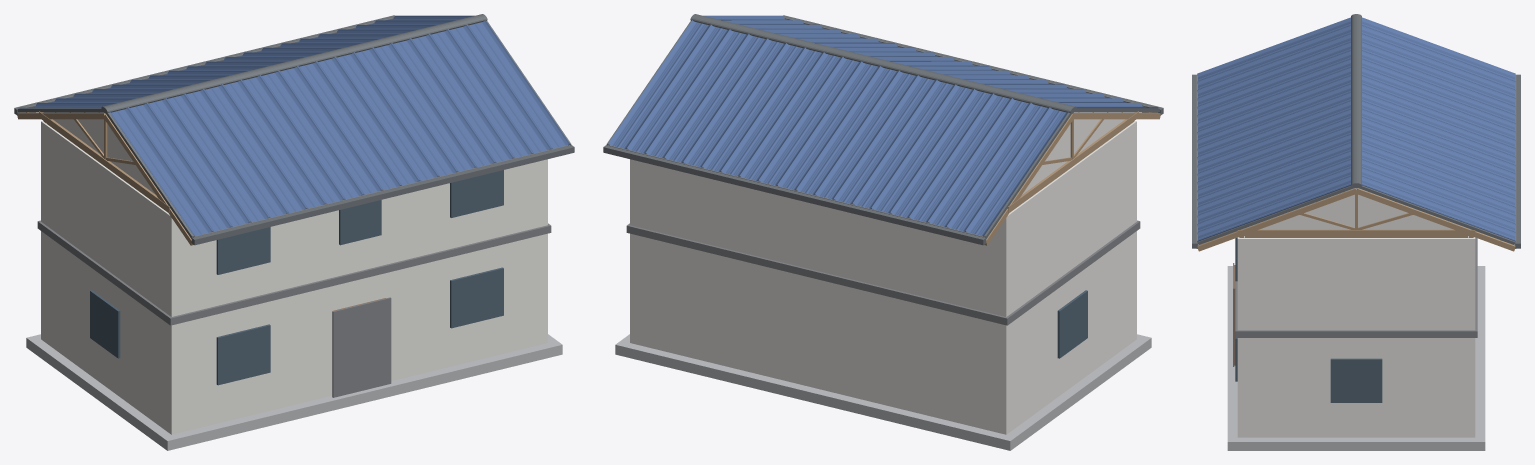
The model's file is Mega_S_Rib_Large_Two_Storey_10x6.glb.
3 renders of one model, left to right at view 1: azimuth 30°, elevation 25°; view 2: azimuth 150°, elevation 25°; view 3: azimuth 270°, elevation 25°, orthographic. The views are drawn at different scales.
Visible parts, largest first — view 1: GroundFloor_Walls, Foundation, Door_Frame, SecondFloor_BandTrim, Gutter_Front, Ridge_Cap, RoofSheet_01, RoofSheet_11, RoofSheet_09, RoofSheet_10, RoofSheet_02, RoofSheet_08 (+27 smaller); view 2: GroundFloor_Walls, Foundation, SecondFloor_BandTrim, Gutter_Back, Ridge_Cap, RoofSheet_21, RoofSheet_31, RoofSheet_29, RoofSheet_22, RoofSheet_30, RoofSheet_32, RoofSheet_24 (+21 smaller); view 3: GroundFloor_Walls, Foundation, Gable_Wall_Right, Window_Side_Right, SecondFloor_BandTrim, Ridge_Cap, Truss_TieBeam_7, RoofSheet_20, RoofSheet_40, RoofSheet_21, RoofSheet_24, RoofSheet_28 (+42 smaller).
Part boxes in pixels (x1,y1,x2,y2): GroundFloor_Walls: (41,121,547,434); Foundation: (26,334,562,450); Door_Frame: (332,297,391,397); SecondFloor_BandTrim: (37,220,551,325); Gutter_Front: (191,145,574,245); Ridge_Cap: (101,14,487,113); RoofSheet_01: (109,107,212,235); RoofSheet_11: (297,61,400,190); RoofSheet_09: (260,71,362,199); RoofSheet_10: (279,66,381,194); RoofSheet_02: (128,103,231,231); RoofSheet_08: (241,75,343,203); GroundFloor_Walls: (630,121,1136,434); Foundation: (615,334,1151,450); SecondFloor_BandTrim: (626,220,1140,325); Gutter_Back: (603,145,986,245); Ridge_Cap: (690,14,1076,113); RoofSheet_21: (965,107,1068,235); RoofSheet_31: (777,61,880,190); RoofSheet_29: (815,71,917,199); RoofSheet_22: (946,103,1049,231); RoofSheet_30: (796,66,898,194); RoofSheet_32: (758,57,861,185); RoofSheet_24: (909,93,1011,222); GroundFloor_Walls: (1237,236,1475,437); Foundation: (1227,266,1485,450); Gable_Wall_Right: (1243,188,1469,229); Window_Side_Right: (1330,358,1382,402); SecondFloor_BandTrim: (1235,237,1477,337); Ridge_Cap: (1351,14,1361,188); Truss_TieBeam_7: (1237,229,1475,235); RoofSheet_20: (1197,176,1350,241); RoofSheet_40: (1362,176,1515,241); RoofSheet_21: (1362,17,1515,81); RoofSheet_24: (1362,42,1515,106); RoofSheet_28: (1362,76,1515,140).
Size of the model in its own units: 10.5 by 7.36 by 8.3.
